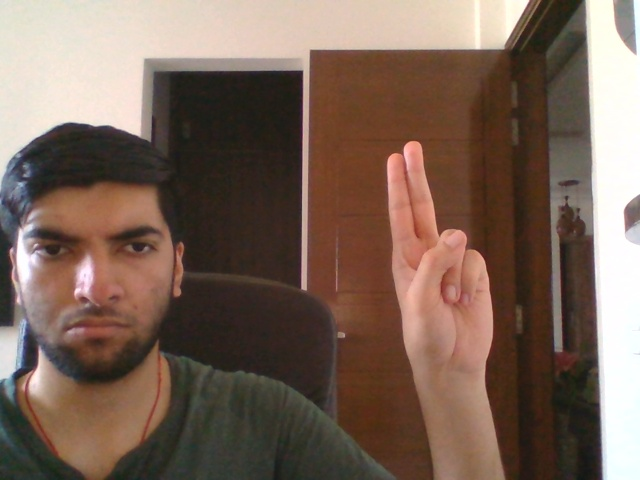LetterU: (384, 137, 497, 378)
